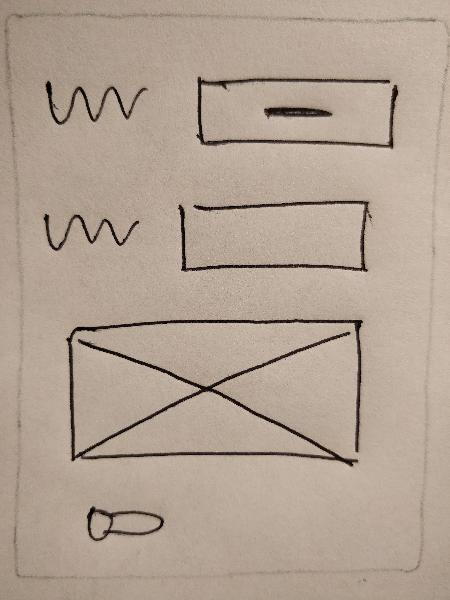button: (187, 64, 401, 161)
image: (56, 312, 368, 473)
switch: (72, 494, 174, 548)
text: (36, 201, 147, 261), (36, 74, 152, 128)
text_input: (170, 191, 375, 280)
